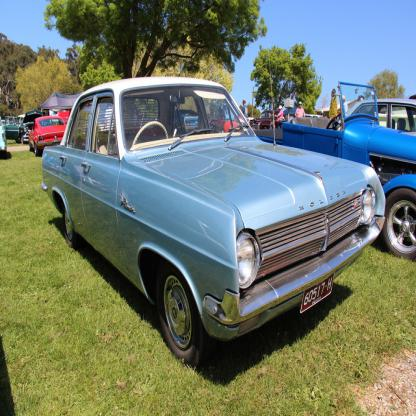Car: (0, 74, 416, 258)
